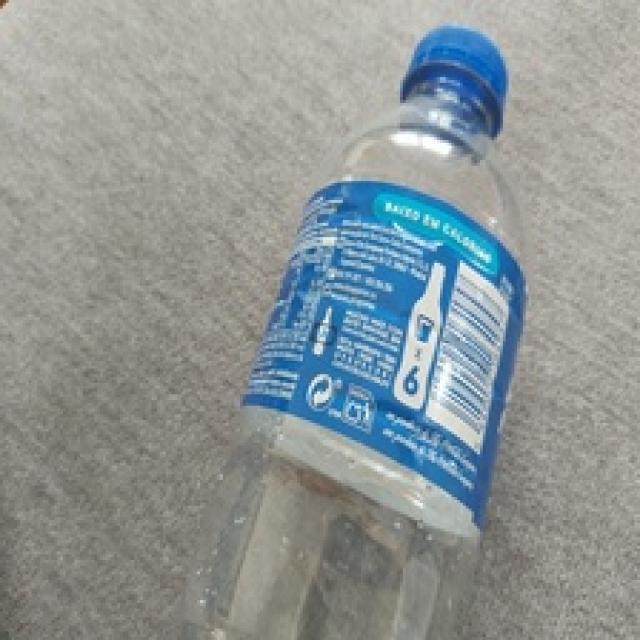Plastic: (195, 23, 524, 640)
